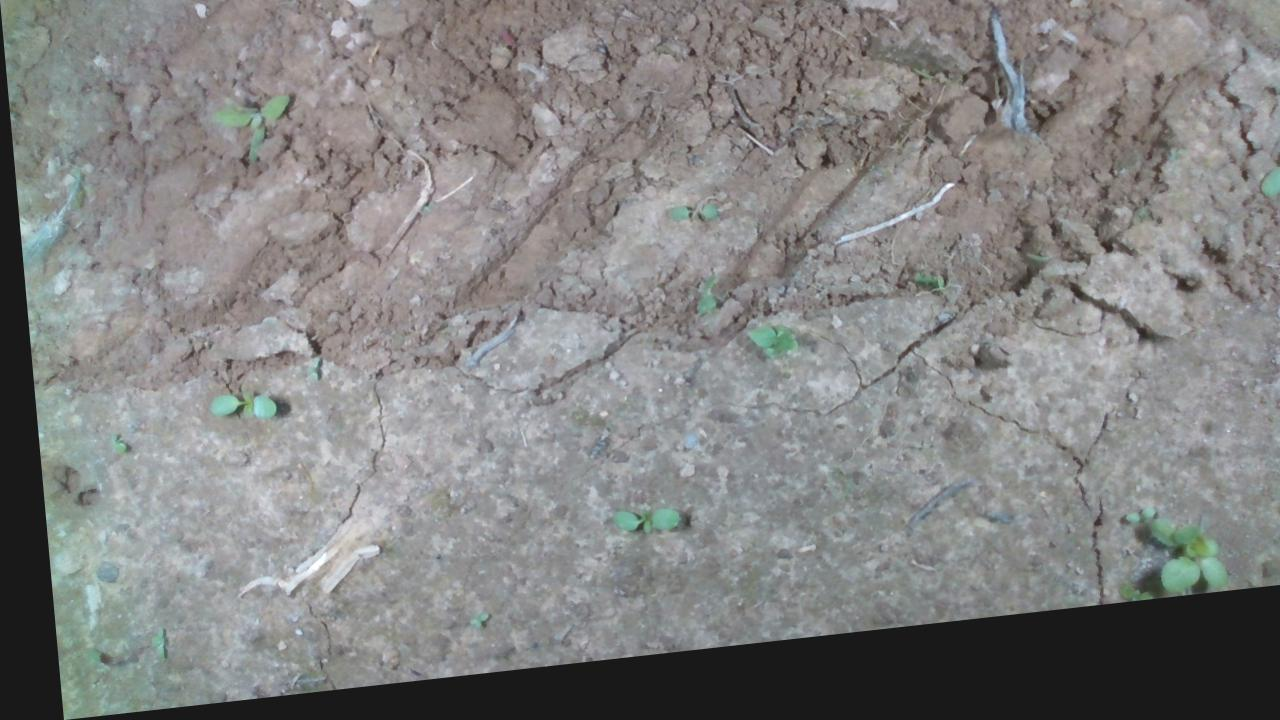weed: (205, 96, 290, 135), (197, 389, 270, 430), (597, 514, 670, 550), (735, 336, 792, 377), (1249, 171, 1279, 228), (658, 213, 715, 239), (131, 626, 155, 664), (452, 618, 479, 638), (98, 433, 118, 458)
